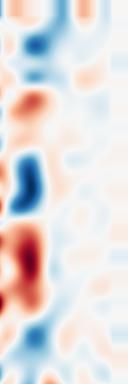filament: (6, 216, 54, 313)
